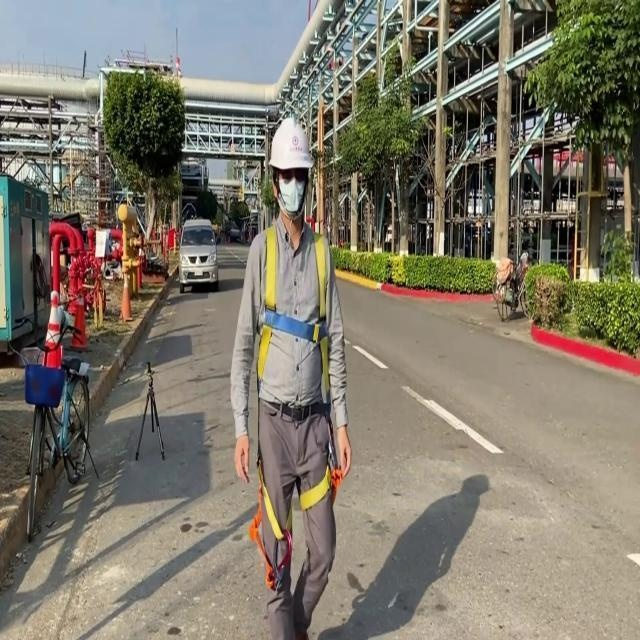Arnes_seguridad: (253, 222, 340, 538)
